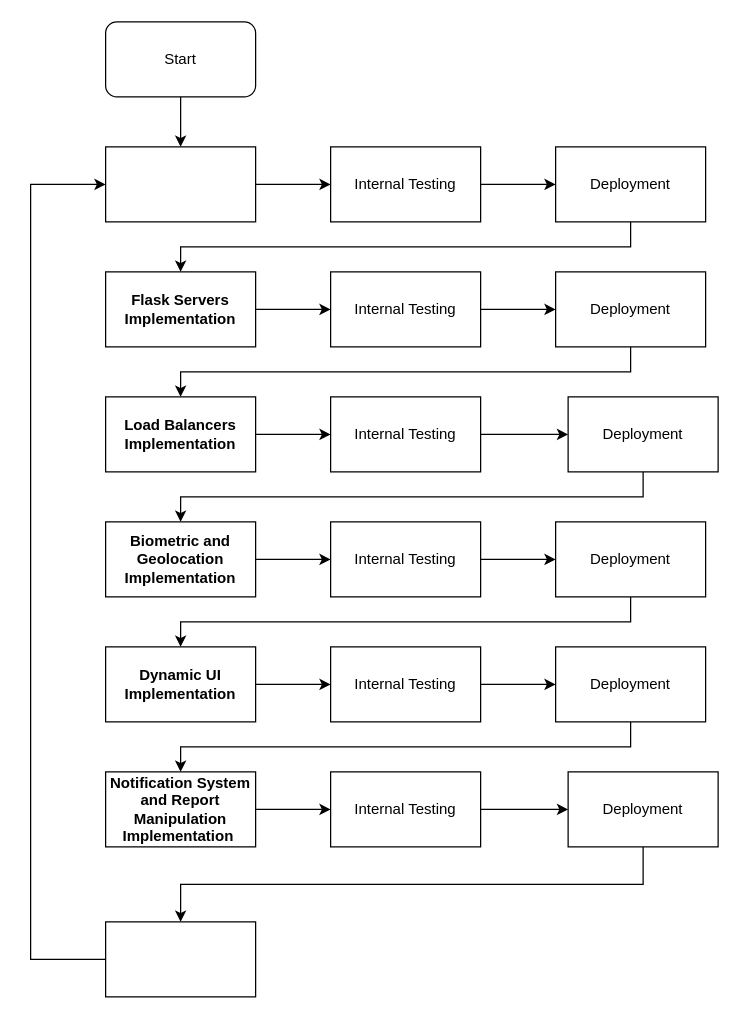
Image size: 740x1019. Some labels were removed from this diagram. The shapes that lost their labels are listed below. From the top down, each one's box as (x1, y1, x2, y2) in pixels, then its label:
(104, 146, 256, 222): Login Interface and WebSocket Communication
(104, 921, 256, 997): Maintenance and Feedback
